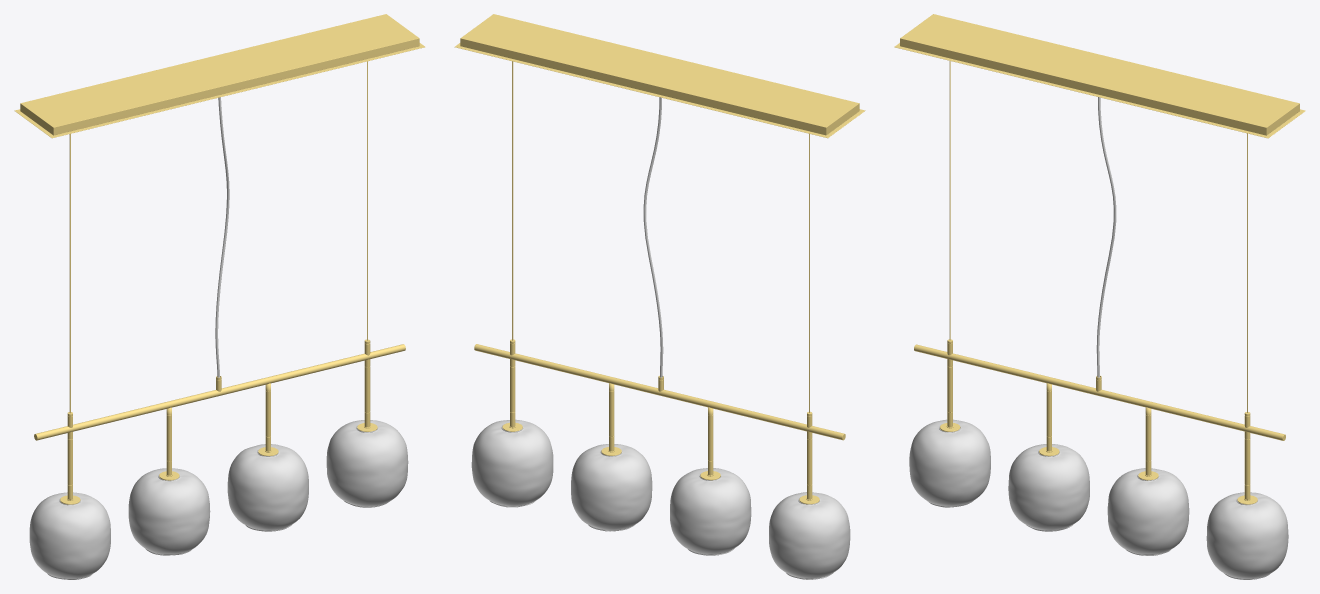
File: lampadario_cucina.fbx
The picture shows the model from 3 angles, left to right: view 1: azimuth 30°, elevation 25°; view 2: azimuth 150°, elevation 25°; view 3: azimuth 330°, elevation 25°; orthographic projection.
Visible parts, largest first — view 1: lampadario_cucina; view 2: lampadario_cucina; view 3: lampadario_cucina.
Boxes of the visible parts, box(x1,y1,x2,y2) form: lampadario_cucina: box(14, 14, 425, 579); lampadario_cucina: box(454, 14, 865, 579); lampadario_cucina: box(894, 14, 1305, 579).
Size of the model in its own units: 68.19 by 80.58 by 12.92.
